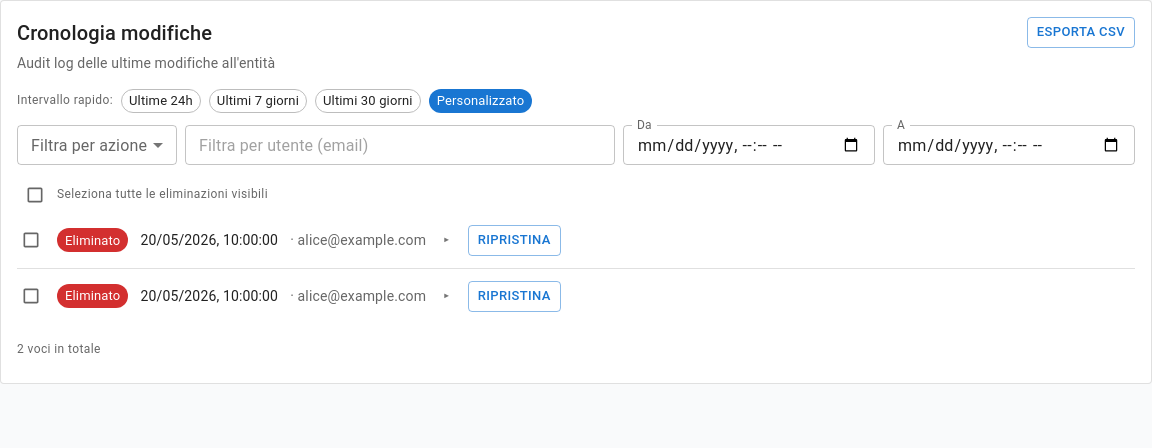
Test: AuditHistoryPanel › selecting DELETE entries shows bulk-revert button with count
Expected: the text "Eliminato" is shown 2 times, [65,233,120,248]; [65,288,120,303]
Click the checkbox named "Seleziona voce di cronologia Trait:trait-1". click: click(31, 240)
box: [21,230,41,250]
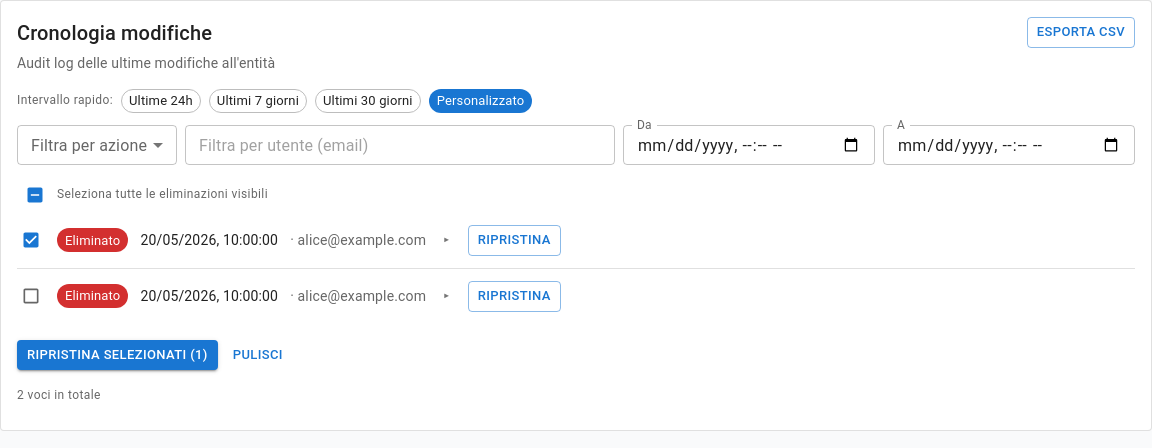
Click the checkbox named "Seleziona voce di cronologia Trait:trait-1". click: click(31, 296)
box: [21,286,41,306]
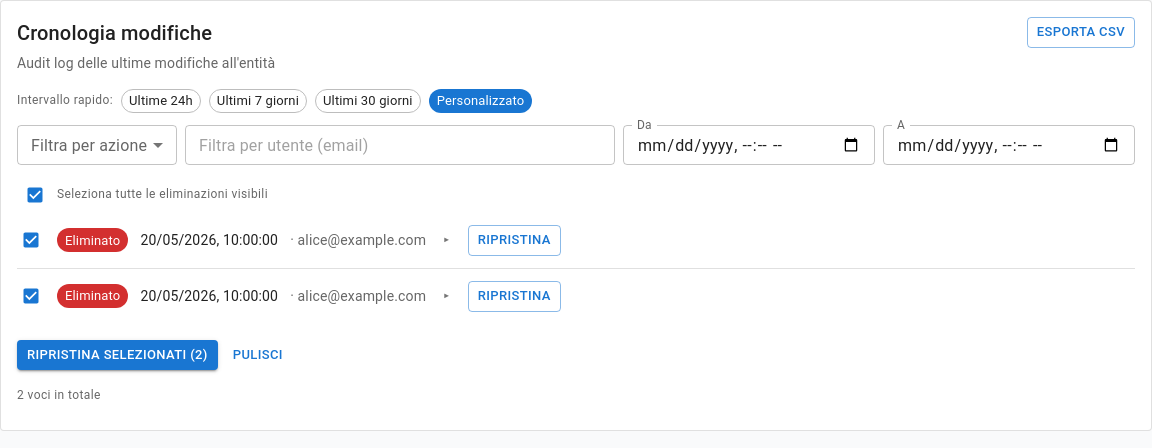
Expected: the button "Ripristina selezionati (2)" is shown, [17,340,218,370]
